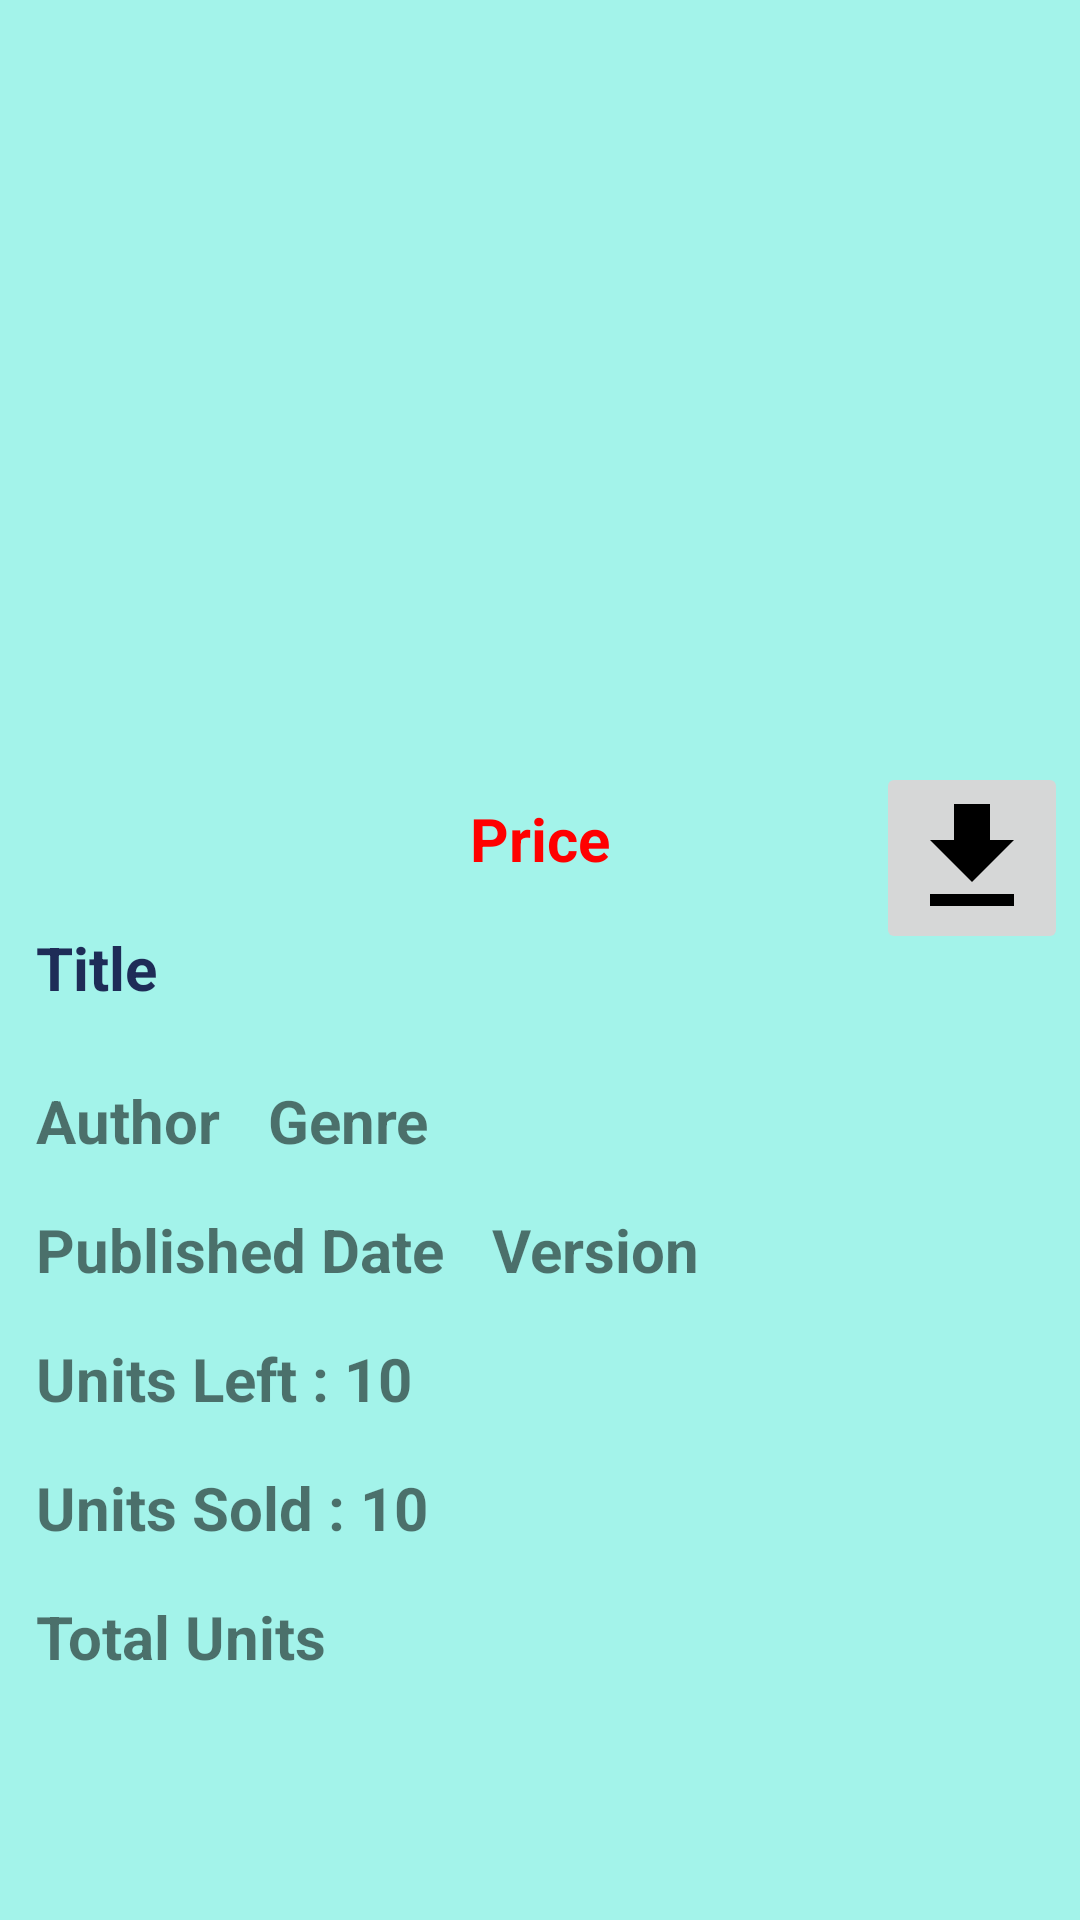

Where icons sit on this 1080x1920 app screen, as (x1, y1, x2, y2):
file download: (888, 780, 1056, 936)
